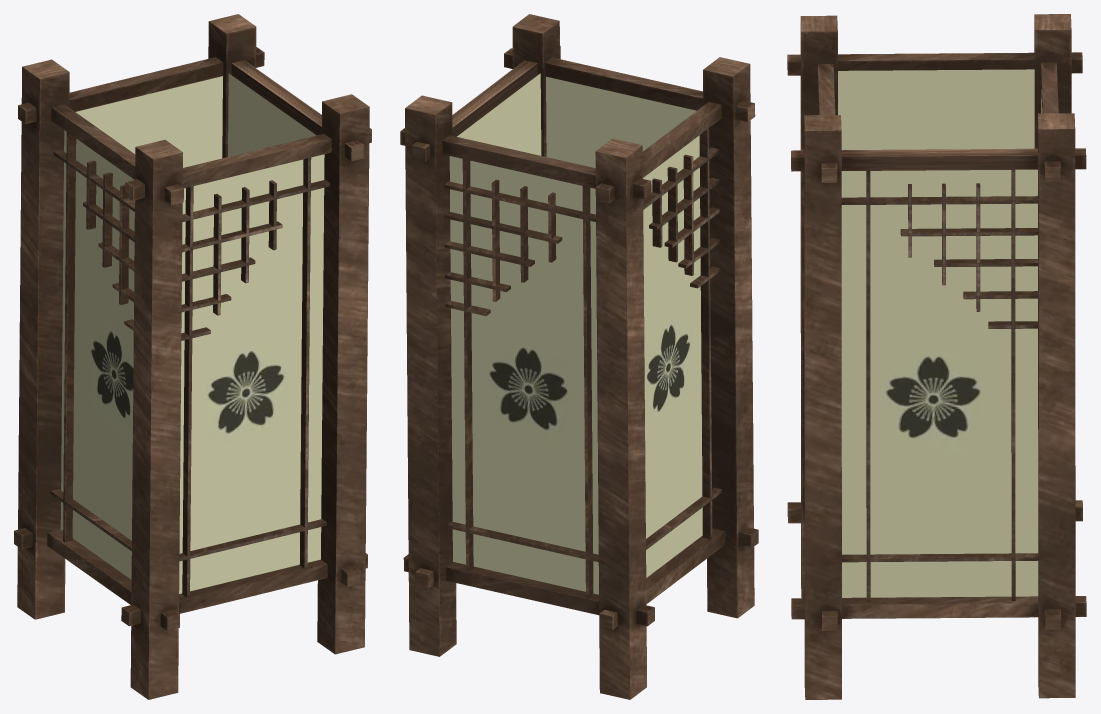
File: floor_lamp_japanese_andon_standing_akio.glb
The picture shows the model from 3 angles, left to right: view 1: azimuth 30°, elevation 25°; view 2: azimuth 150°, elevation 25°; view 3: azimuth 270°, elevation 25°; orthographic projection. The views are drawn at different scales.
Parts seen in each view (by area): view 1: Box015_wood_0, Plane004_paper_0; view 2: Box015_wood_0, Plane004_paper_0; view 3: Plane004_paper_0, Box015_wood_0.
Boxes of the visible parts, x1=… form: Box015_wood_0: x1=14, y1=14, x2=371, y2=699; Plane004_paper_0: x1=60, y1=73, x2=324, y2=593; Box015_wood_0: x1=400, y1=14, x2=758, y2=699; Plane004_paper_0: x1=449, y1=73, x2=702, y2=594; Plane004_paper_0: x1=838, y1=69, x2=1042, y2=597; Box015_wood_0: x1=787, y1=14, x2=1086, y2=699.
Bounding box in the file's own units: 0.2876 × 0.6025 × 0.2847.
2 materials, 2 textured.
